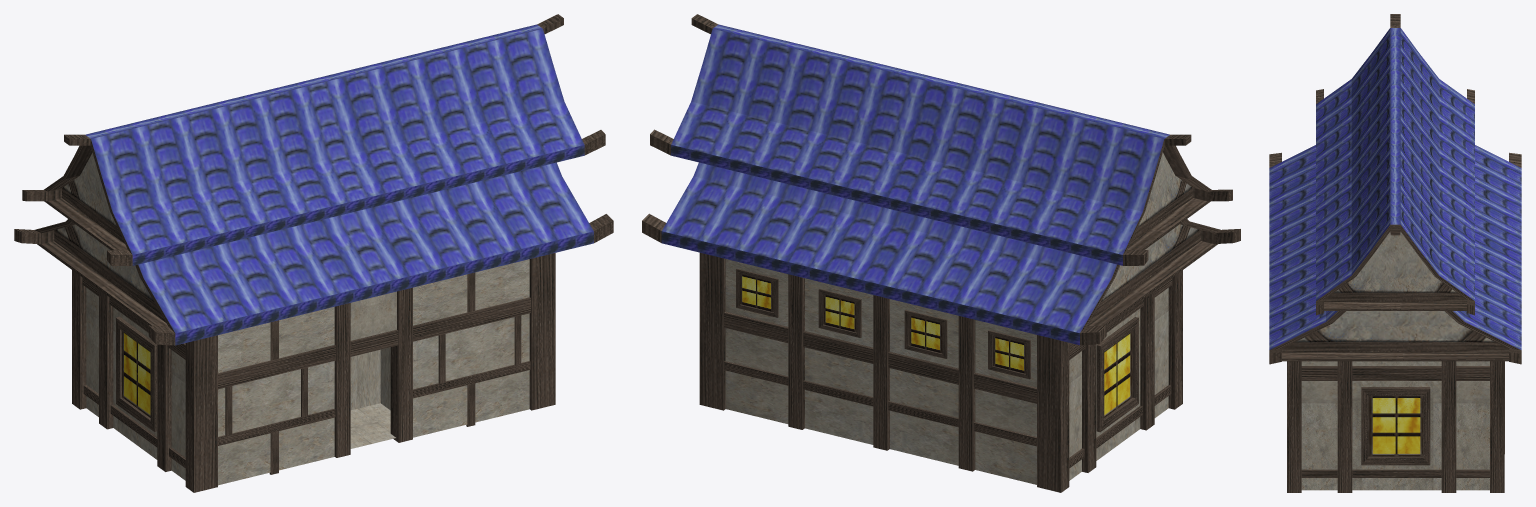
File: templo-b.fbx
3 views of the same model, side by side, from view 1: azimuth 30°, elevation 25°; view 2: azimuth 150°, elevation 25°; view 3: azimuth 270°, elevation 25° (orthographic). The views are drawn at different scales.
Parts seen in each view (by area): view 1: Cube.000, Cube.001, Cube.002; view 2: Cube.000, Cube.002; view 3: Cube.000, Cube.002.
Part boxes in pixels (x1=…): Cube.000: x1=14, y1=14, x2=613, y2=492; Cube.001: x1=350, y1=347, x2=395, y2=448; Cube.002: x1=122, y1=331, x2=150, y2=417; Cube.000: x1=642, y1=14, x2=1240, y2=492; Cube.002: x1=740, y1=274, x2=1132, y2=417; Cube.000: x1=1269, y1=14, x2=1521, y2=492; Cube.002: x1=1368, y1=396, x2=1423, y2=456.
Size of the model in its own units: 9.78 by 6.25 by 4.85.
